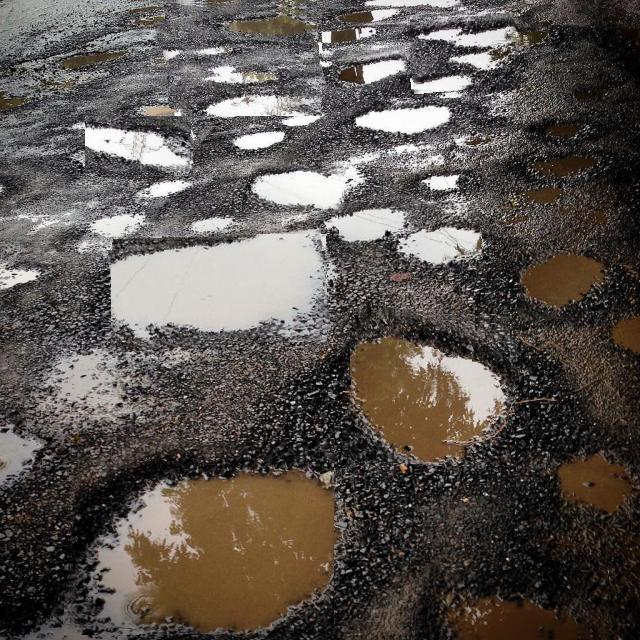Pothole: (67, 438, 334, 640), (345, 309, 515, 466), (111, 234, 329, 347), (158, 0, 322, 116), (417, 570, 609, 640), (339, 201, 482, 272), (409, 14, 520, 92), (550, 425, 631, 531), (517, 250, 610, 323), (85, 116, 194, 174), (356, 98, 461, 142), (251, 162, 345, 211), (333, 48, 409, 92)
